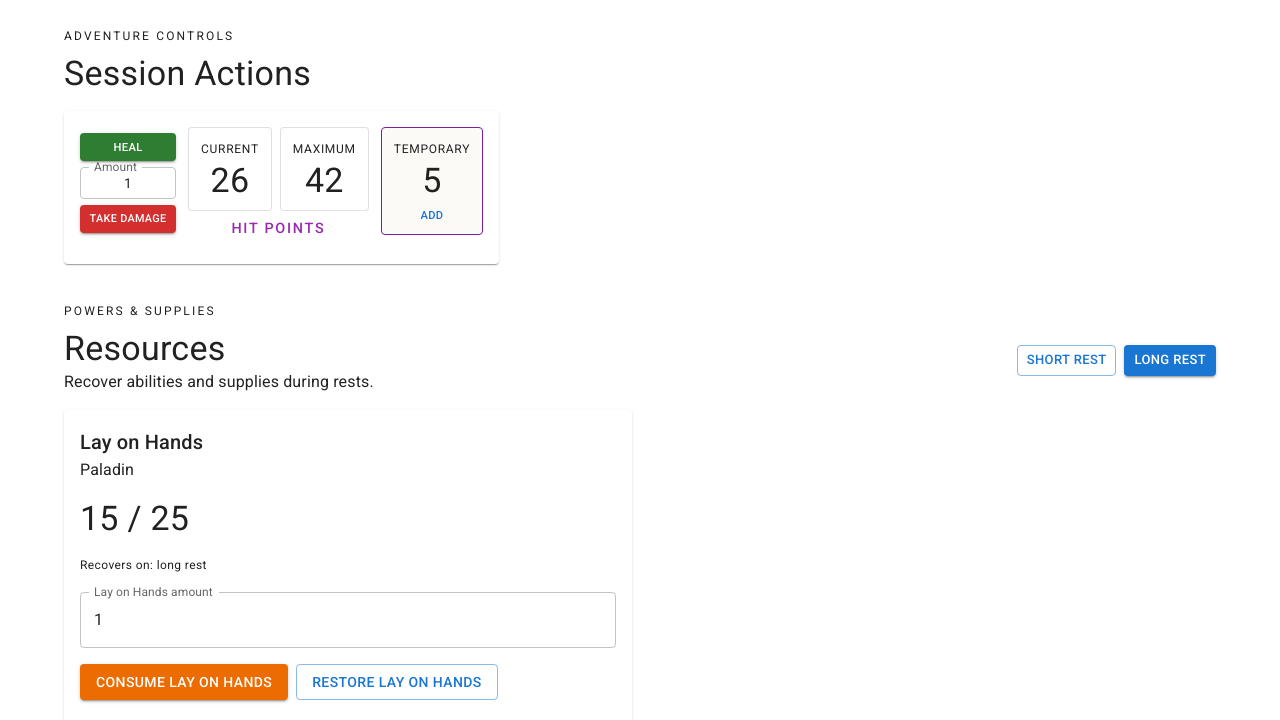
Test: CharacterDetailPage › performs a long rest and refreshes the dashboard
The image size is (1280, 720).
(page scrolled)
Expected: the element named "Current hit points: 26" is shown, x1=188 y1=127 x2=272 y2=211
Expected: the element named "Maximum hit points: 42" is shown, x1=280 y1=127 x2=369 y2=211
Click the button "Long rest": {"x": 1170, "y": 361} x1=1124 y1=345 x2=1216 y2=376
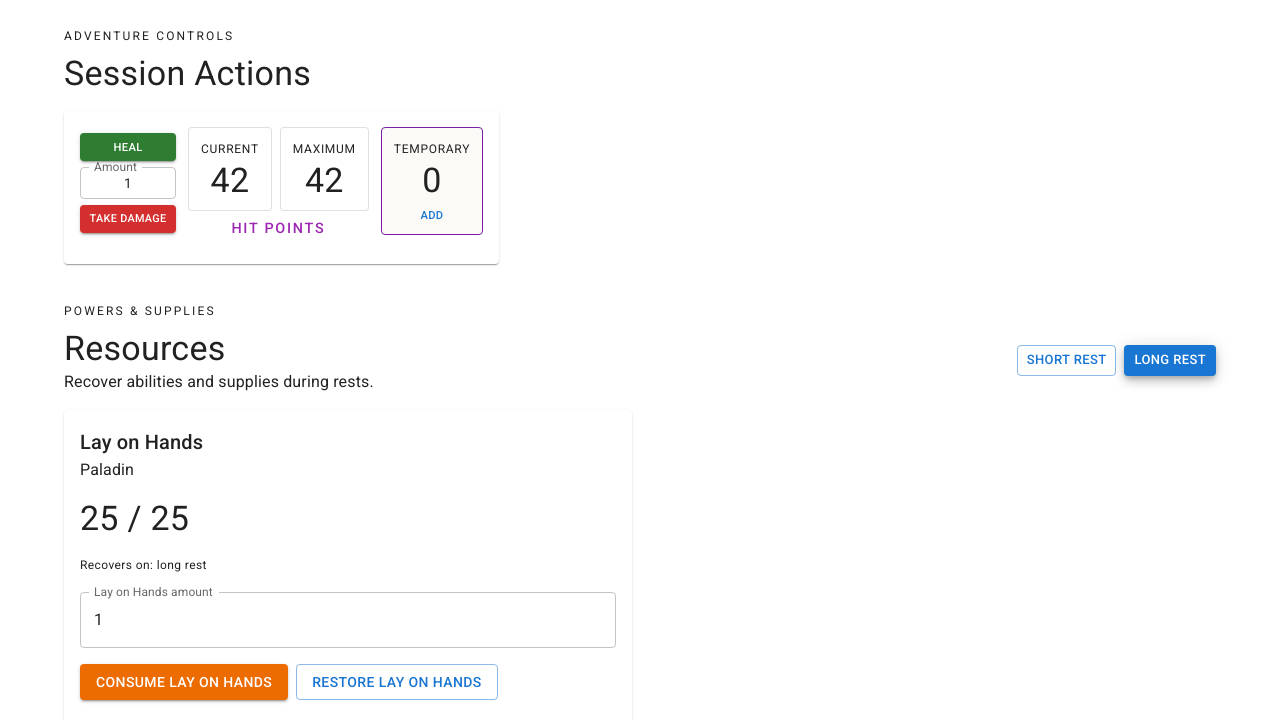
Result: the element named "Current hit points: 42" is shown at x1=188 y1=127 x2=272 y2=211
Result: the element named "Temporary hit points: 0" is shown at x1=381 y1=127 x2=483 y2=235
Result: the heading "25 / 25" is shown at x1=80 y1=498 x2=189 y2=538
